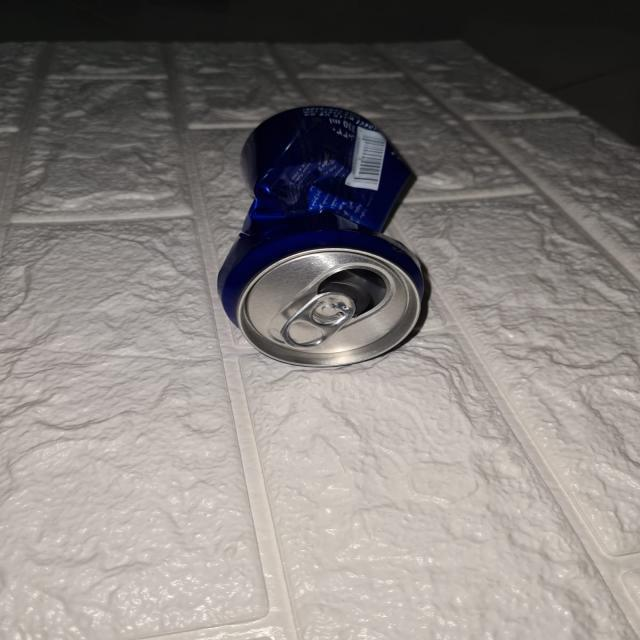can: (214, 106, 437, 367)
